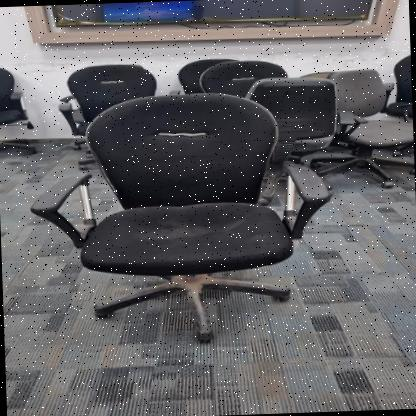chair: (19, 81, 340, 354)
